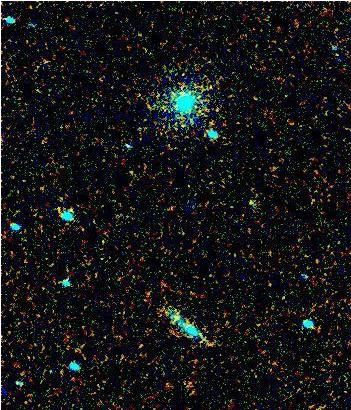star: (236, 187, 266, 217)
